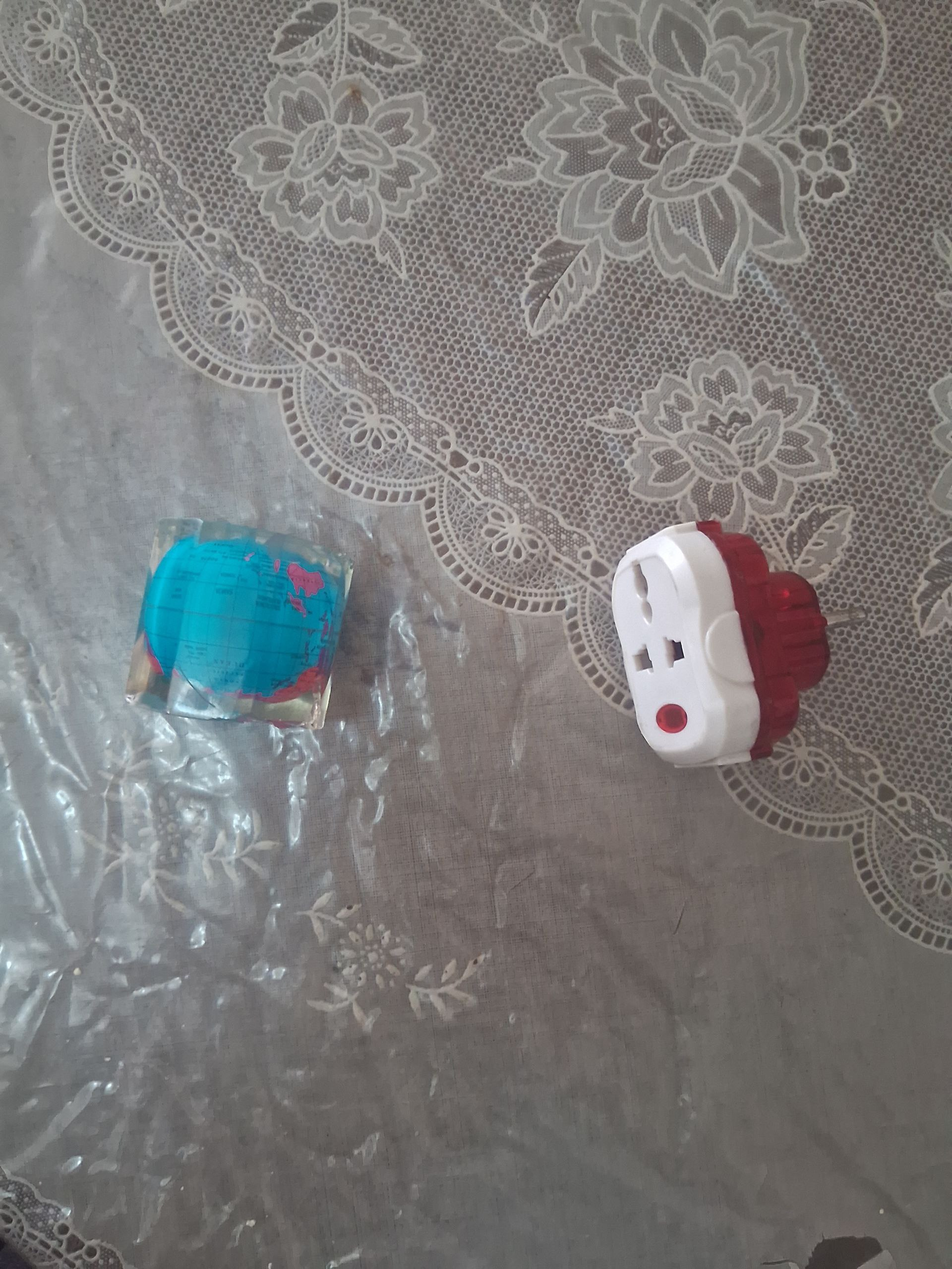Multi_adapter: (599, 506, 874, 779)
world_globe: (114, 496, 376, 754)
